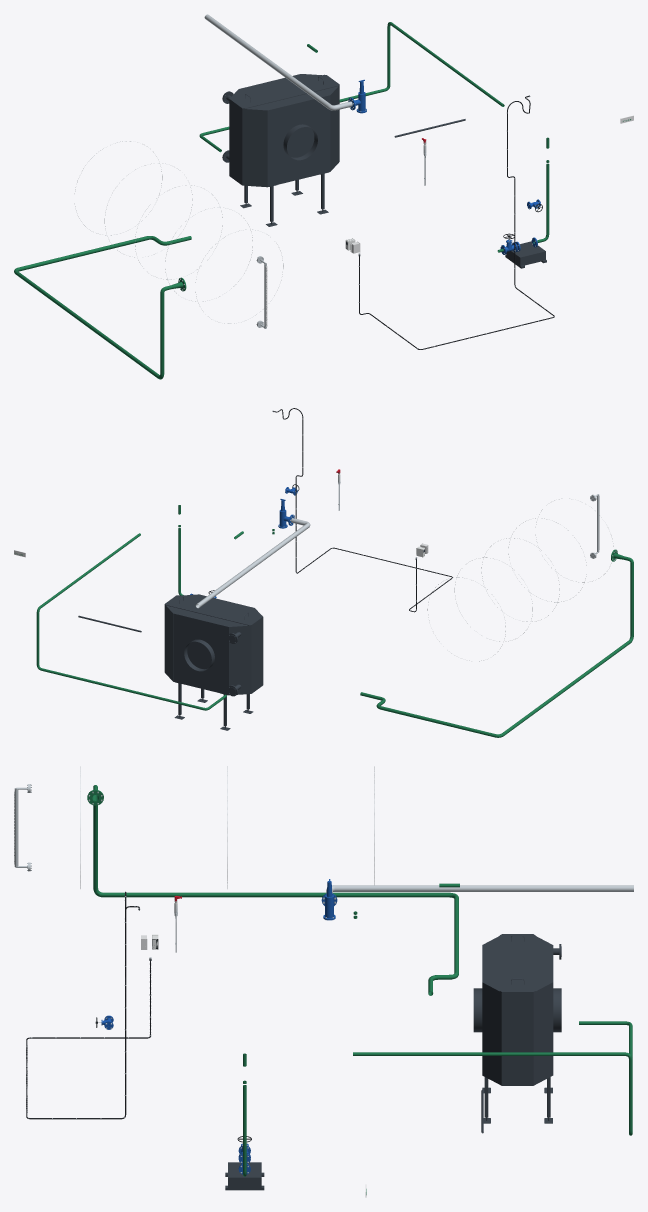
Rendered from s4000-2-DmNdqBAE.glb.
3 views of the same model, one above another, from view 1: azimuth 30°, elevation 25°; view 2: azimuth 150°, elevation 25°; view 3: azimuth 270°, elevation 25° (orthographic). The views are drawn at different scales.
Visible parts, largest first — view 1: EQS2-5000 CAD 0, EQS2-5000 CAD 3, deaerator_feed / green, EQS2-5000 CAD 1, to_economizer / green, safety_vent_2 / steel, wiring_pressure_transmitter / black, pump_branch_1 / dark, deaerator_details / steel; view 2: EQS2-5000 CAD 0, EQS2-5000 CAD 3, deaerator_feed / green, EQS2-5000 CAD 2, to_economizer / green, safety_vent_2 / steel, wiring_pressure_transmitter / black, deaerator_details / steel; view 3: EQS2-5000 CAD 3, deaerator_feed / green, safety_vent_2 / steel, to_economizer / green, EQS2-5000 CAD 0, wiring_pressure_transmitter / black, pump_branch_1 / dark, deaerator_details / steel.
Boxes of the visible parts, x1,y1,x2,y2 form: EQS2-5000 CAD 0: (240,95,330,226); EQS2-5000 CAD 3: (229,74,339,184); deaerator_feed / green: (14,236,191,379); EQS2-5000 CAD 1: (242,109,267,187); to_economizer / green: (199,22,504,152); safety_vent_2 / steel: (204,14,352,110); wiring_pressure_transmitter / black: (359,96,554,349); pump_branch_1 / dark: (505,241,546,268); deaerator_details / steel: (74,141,283,328); EQS2-5000 CAD 0: (173,613,253,730); EQS2-5000 CAD 3: (164,594,263,693); deaerator_feed / green: (360,549,633,737); EQS2-5000 CAD 2: (227,625,251,696); to_economizer / green: (36,533,226,710); safety_vent_2 / steel: (195,518,310,608); wiring_pressure_transmitter / black: (273,408,452,612); deaerator_details / steel: (427,494,613,661); EQS2-5000 CAD 3: (482,934,553,1085); deaerator_feed / green: (87,785,458,995); safety_vent_2 / steel: (326,885,633,893); to_economizer / green: (353,1021,632,1135); EQS2-5000 CAD 0: (473,945,561,1123); wiring_pressure_transmitter / black: (26,891,150,1119); pump_branch_1 / dark: (225,1162,264,1190); deaerator_details / steel: (14,766,374,888).
Bounding box in the file's own units: 9.48 × 3.24 × 7.17.
